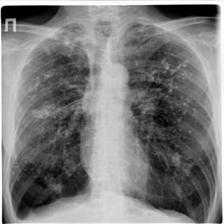tuberculosis: (7, 20, 224, 224)
